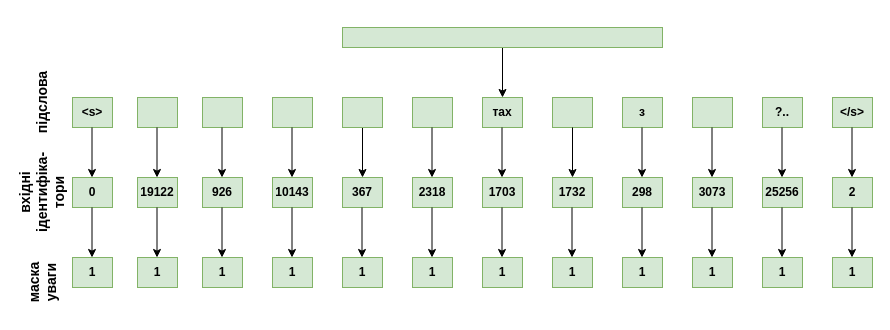
Image size: 890x330. Some labels were removed from this diagram. Each missing label, with the box of its shape:
зни: (552, 96, 592, 128)
креди: (412, 96, 452, 128)
може: (136, 96, 178, 128)
може ще ставки по кредитах знизяться?..: (342, 26, 662, 48)
по: (342, 96, 382, 128)
ставки: (272, 96, 312, 128)
ще: (202, 96, 242, 128)
яться: (692, 96, 732, 128)
